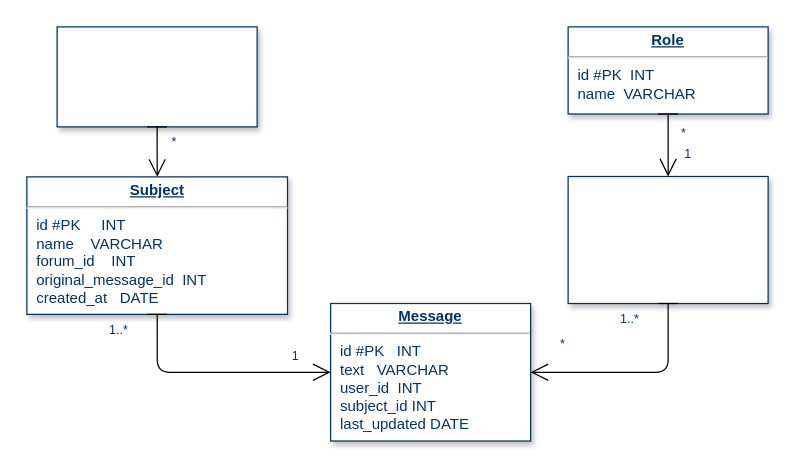
The diagram is 798 pixels wide and 473 high, and some of its shapes have lost their labels. Here are the shapes that lost their labels. From the top down, the centre of each, then its label:
At pixel 158 78: "Forum id #PK INT name VARCHAR created_at DATE".
At pixel 669 241: "User id #PK INT pseudo VARCHAR password VARCHAR role_id INT".
